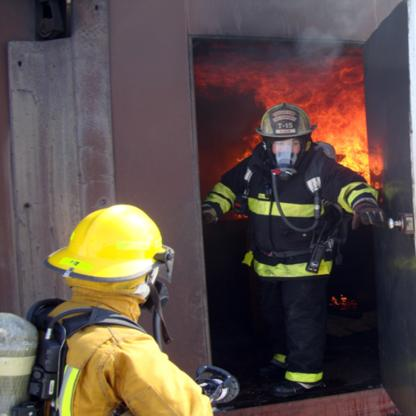Helmet: (42, 203, 178, 285), (254, 100, 315, 167)
